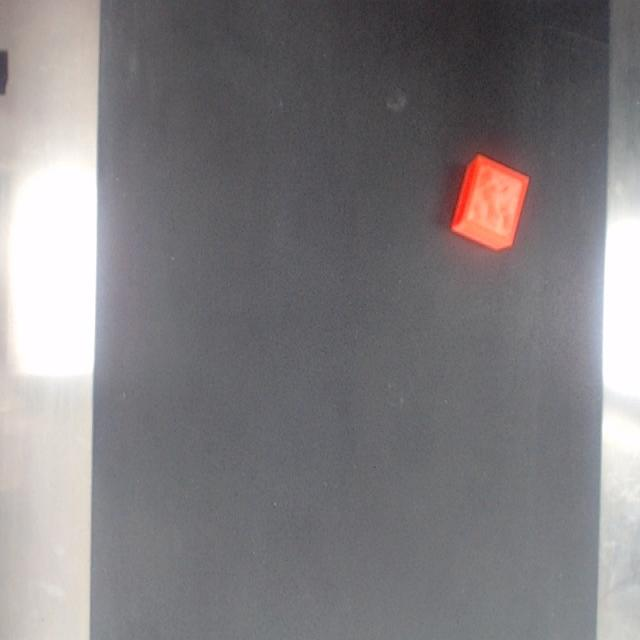Rojo: (450, 153, 529, 251)
